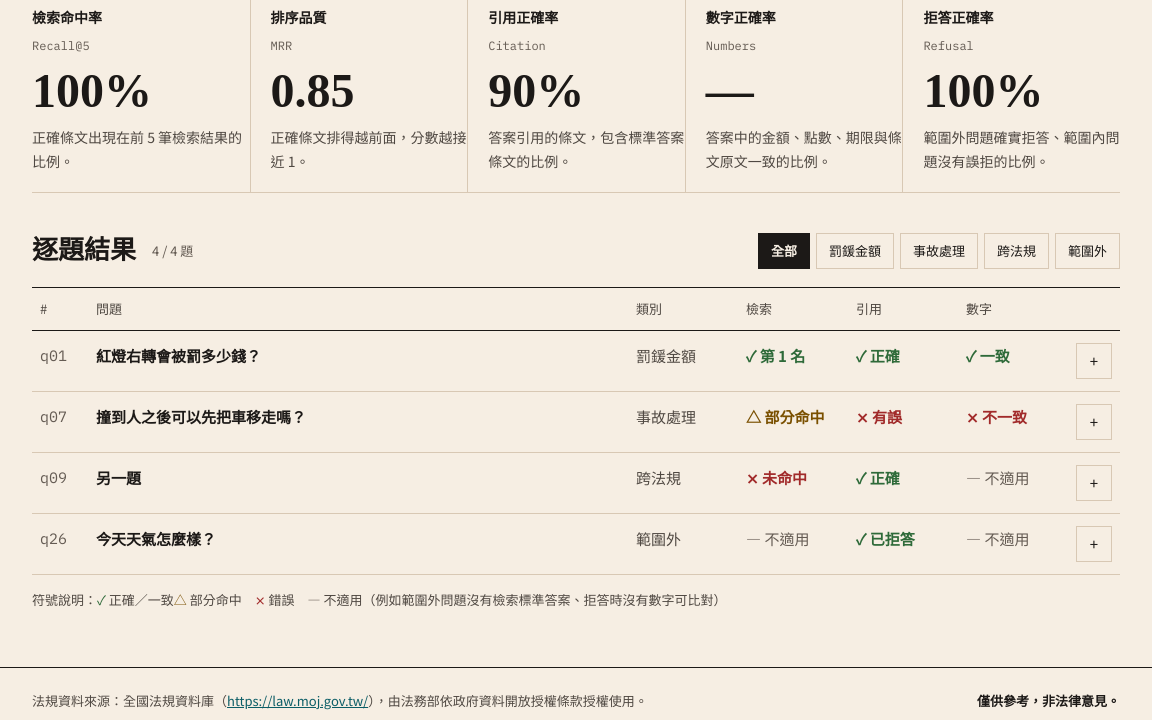
Test case: 評估頁 › expands a row to show the expected articles and the top five retrieved with scores
The width and height of the screenshot is (1152, 720).
(page scrolled)
Click the button named "展開 q01" at (1094, 361), box [1076, 343, 1112, 379]
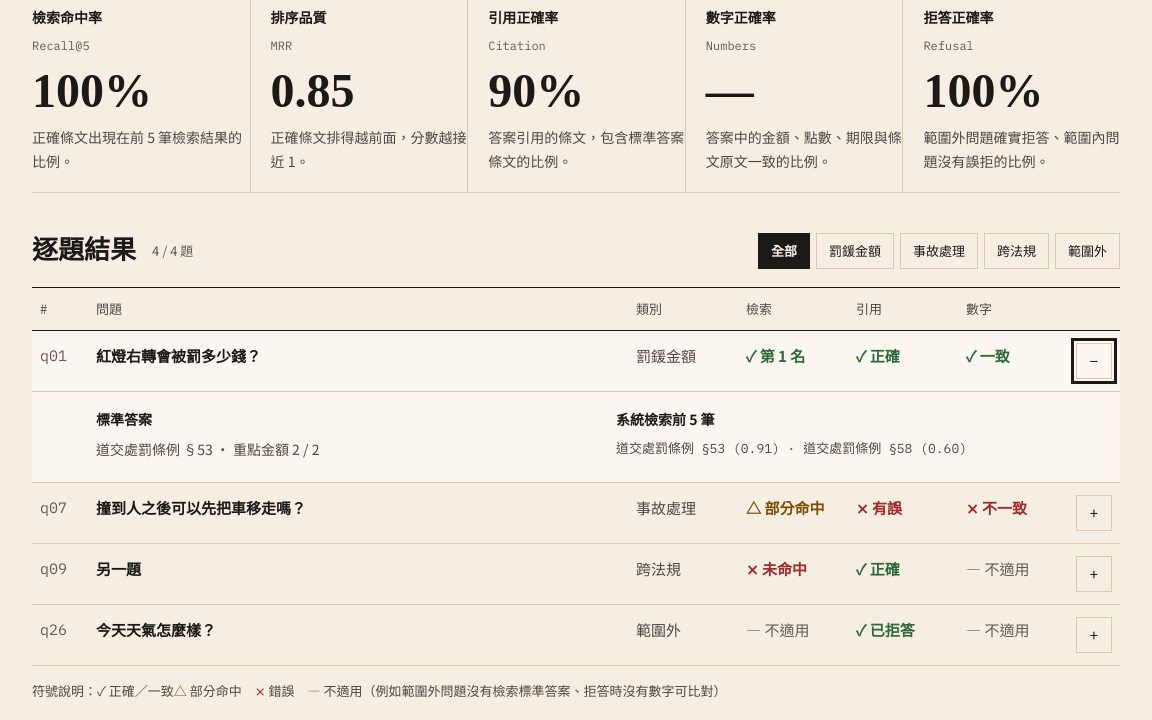
Now the text "道交處罰條例 §53 · 重點金額 2 / 2" is shown, box [96, 439, 319, 459]
Now the text "道交處罰條例 §53 (0.91) · 道交處罰條例 §58 (0.60)" is shown, box [616, 440, 967, 457]
Click the button named "收合 q01" at (1094, 361), box [1076, 343, 1112, 379]
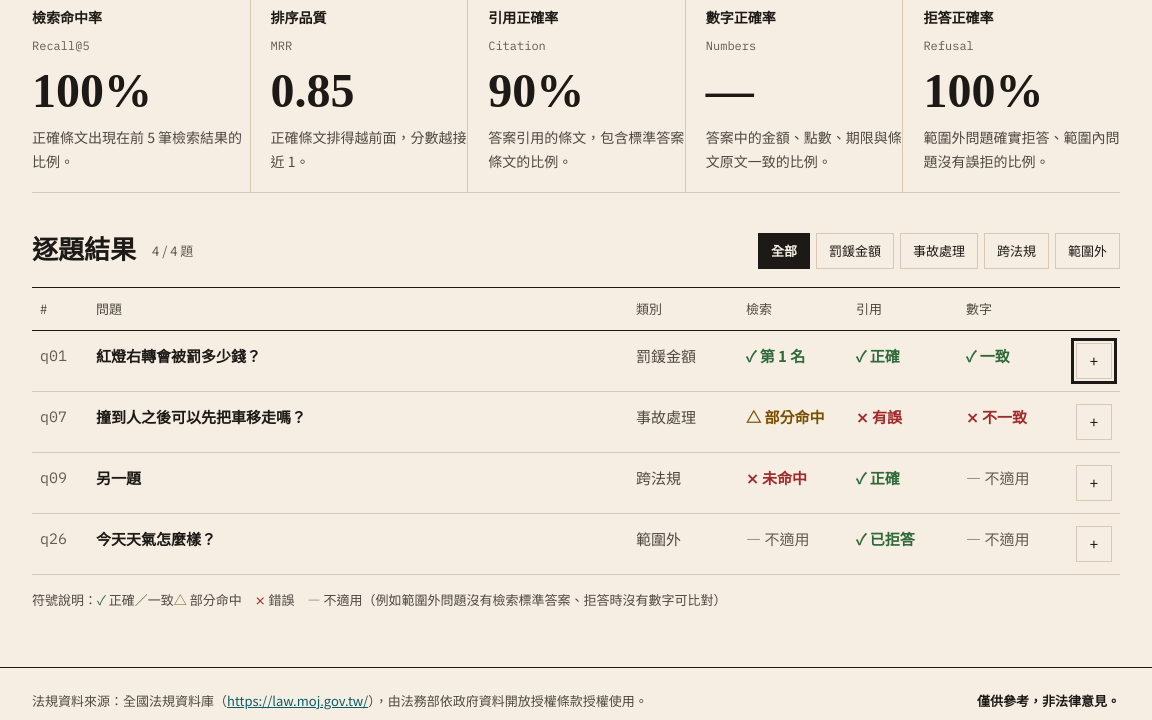
Now the text "系統檢索前 5 筆" is gone
